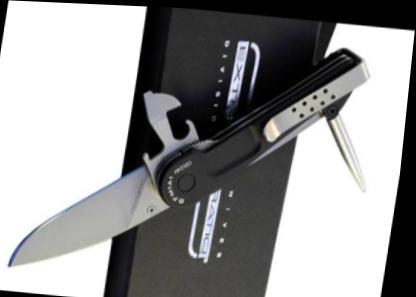knife: (8, 136, 186, 282)
